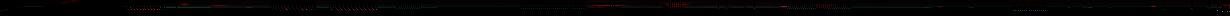Blue cone: (16, 7, 20, 8), (5, 9, 8, 10)
Orange: (661, 2, 693, 8), (809, 4, 842, 8)
Yellow cone: (178, 3, 191, 6), (936, 6, 944, 8)
